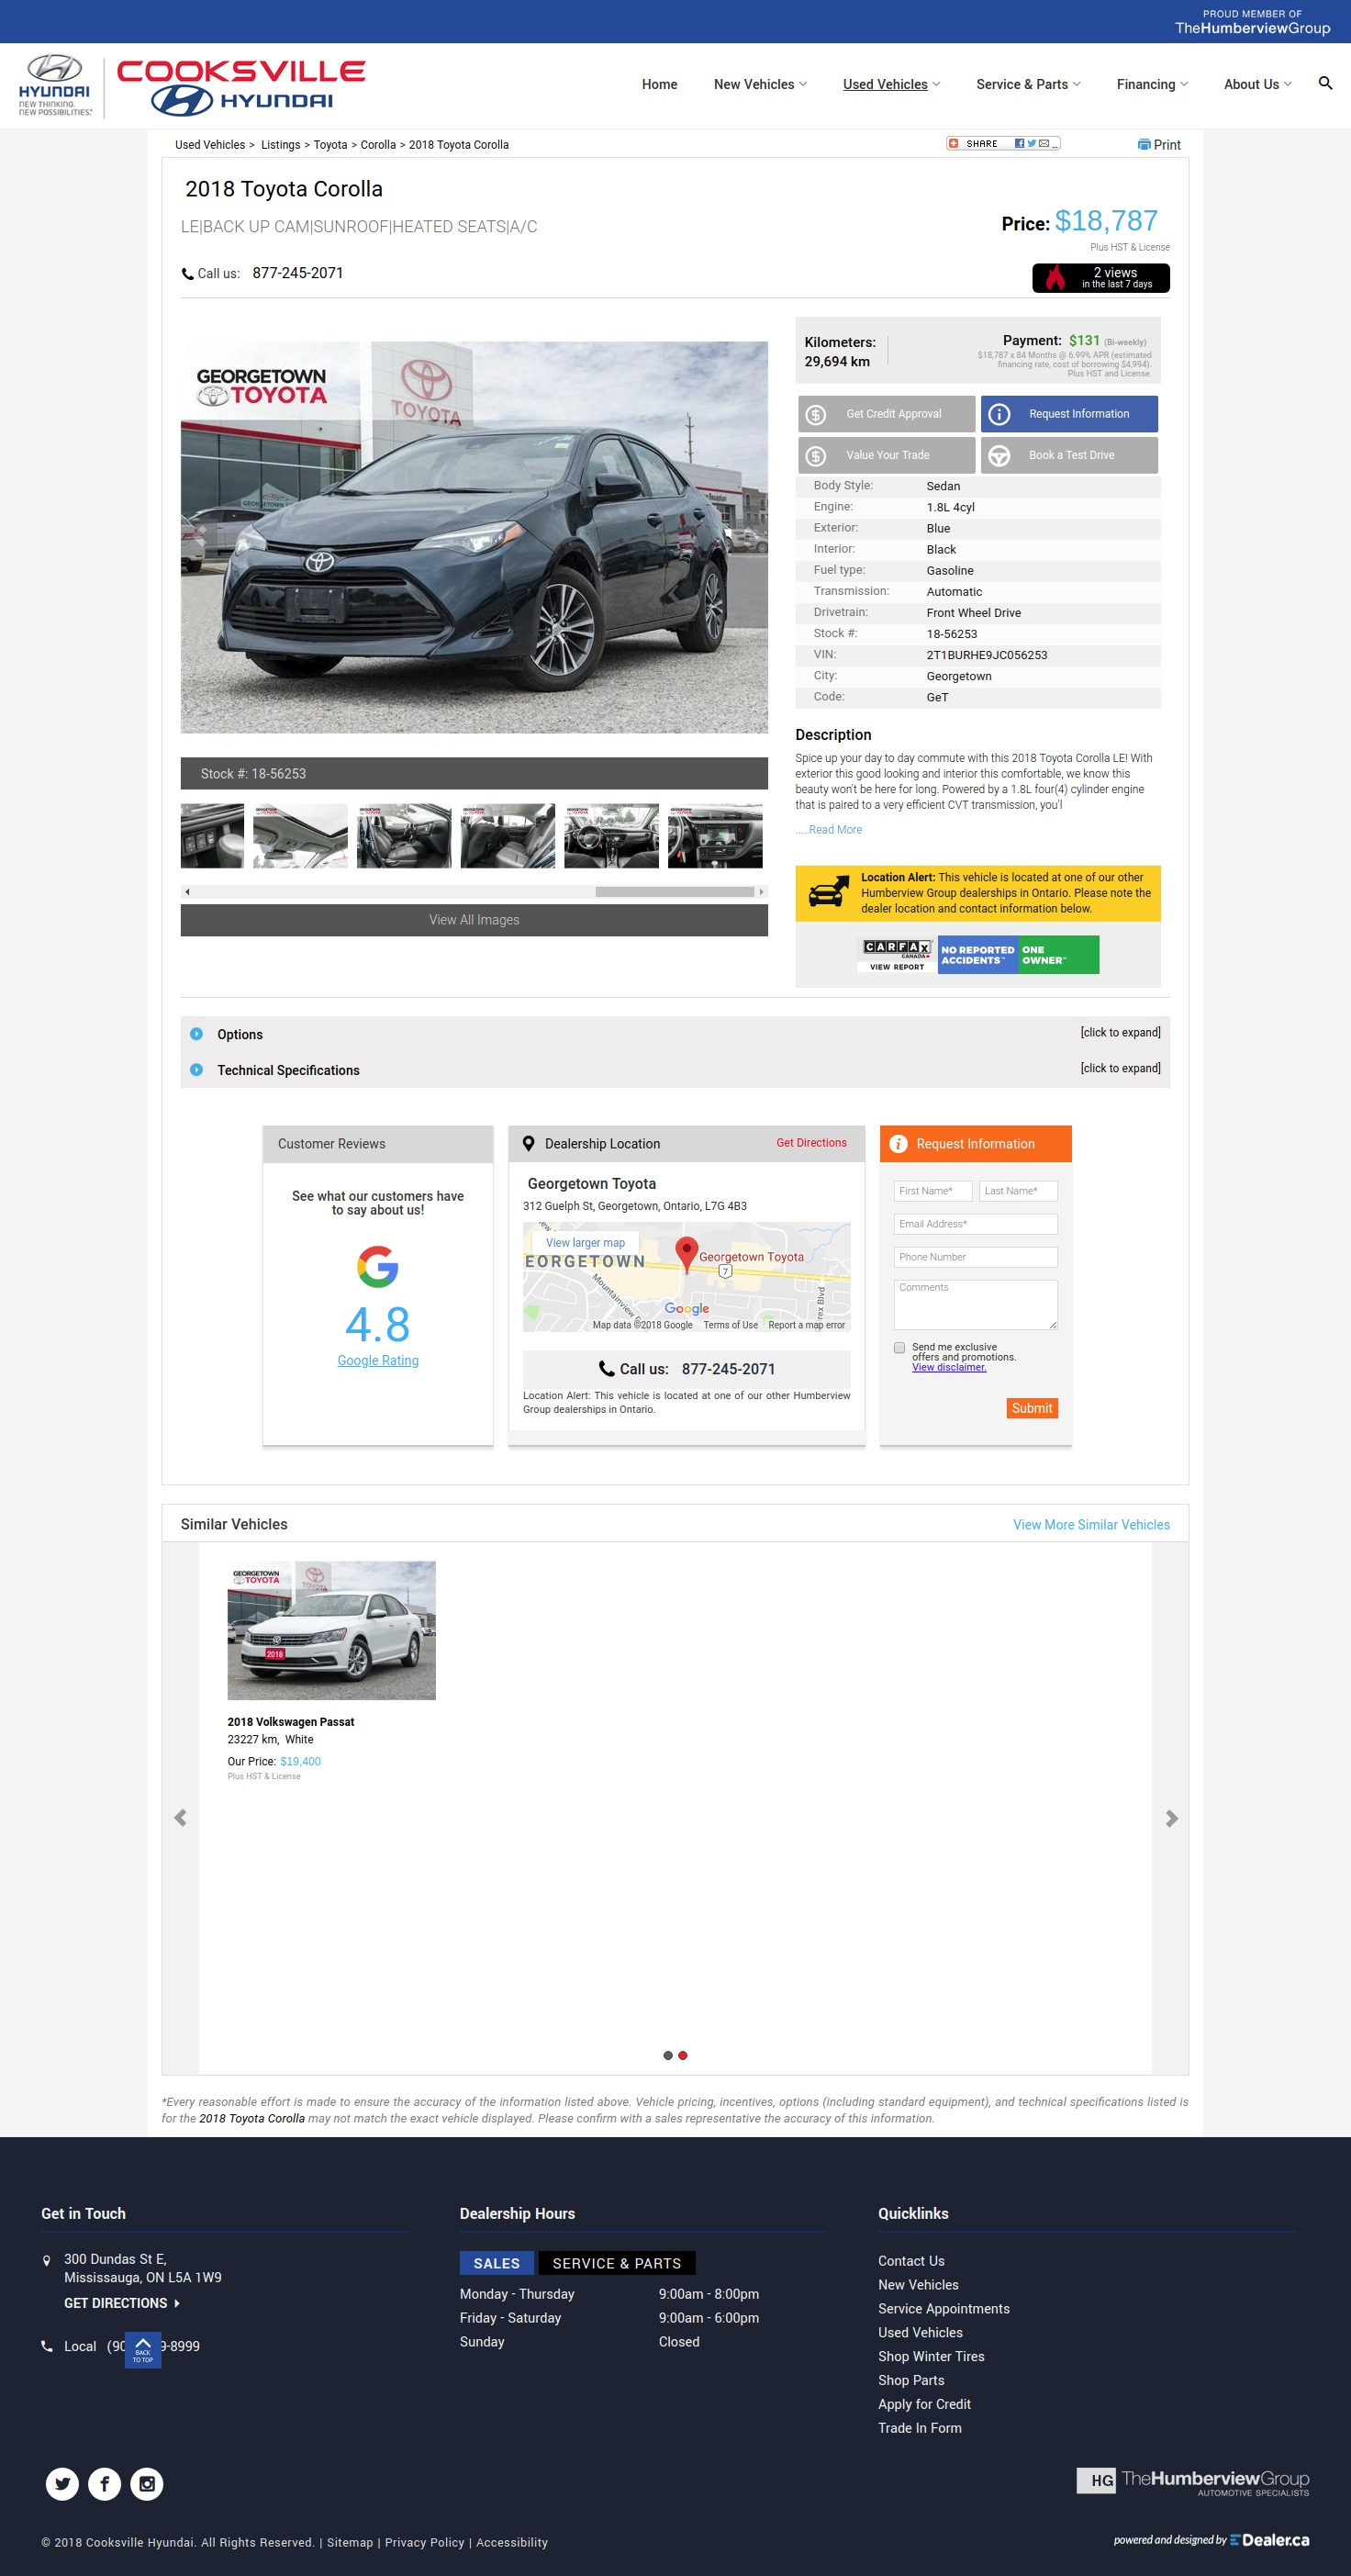car: (760, 889, 765, 896)
